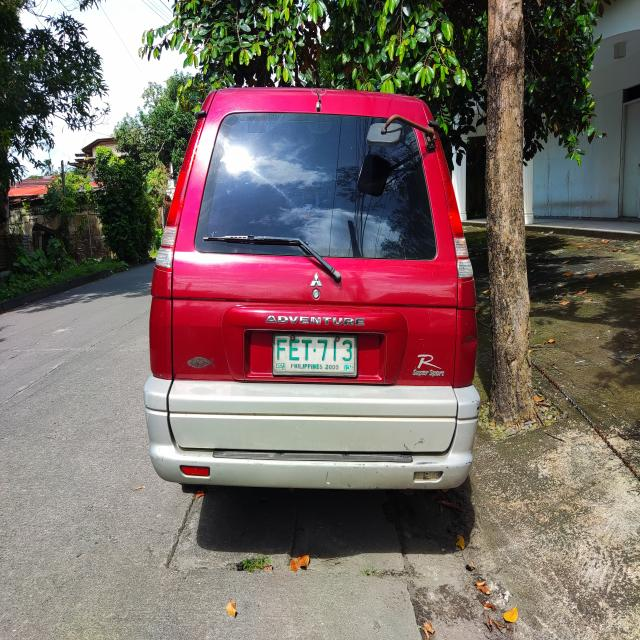plate: (272, 332, 358, 379)
